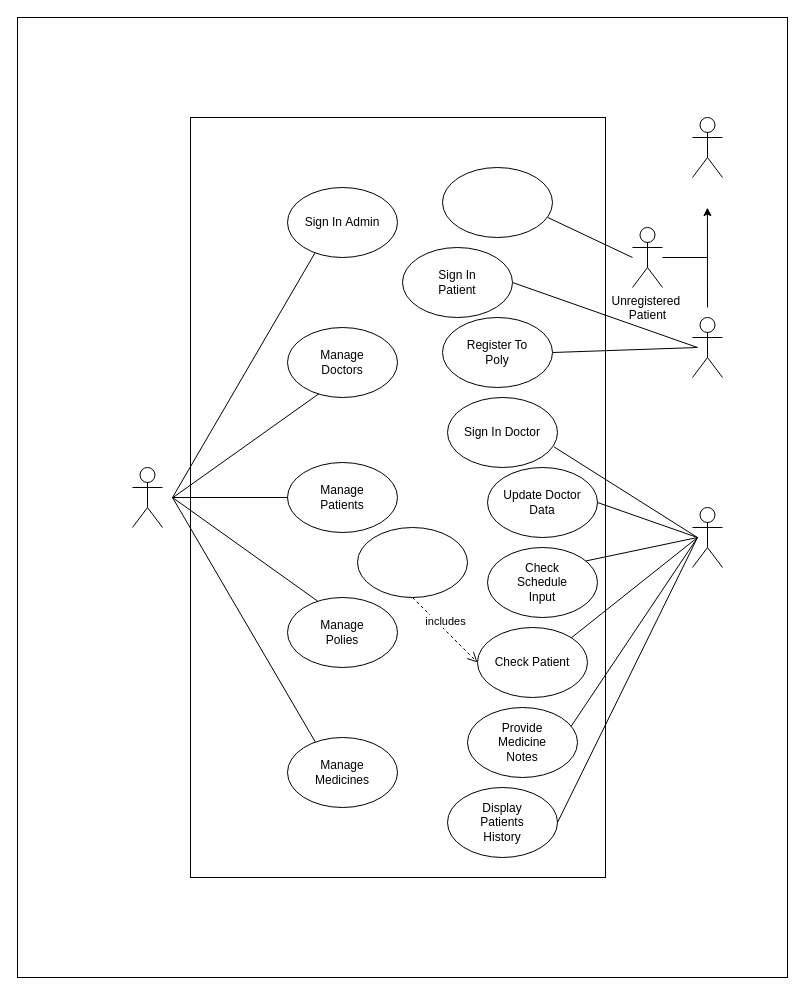
Some shapes in this 805 by 995 pixel diagram are drawn without their labels. The centre of each missing label's shape, as x and y in pixels:
"Admin" belongs at (147,497).
"Calculate Check Fee" belongs at (412,562).
"Doctor" belongs at (707,537).
"Patient" belongs at (707,147).
"Register Patient" belongs at (497,202).
"Registered Patient" belongs at (707,347).
